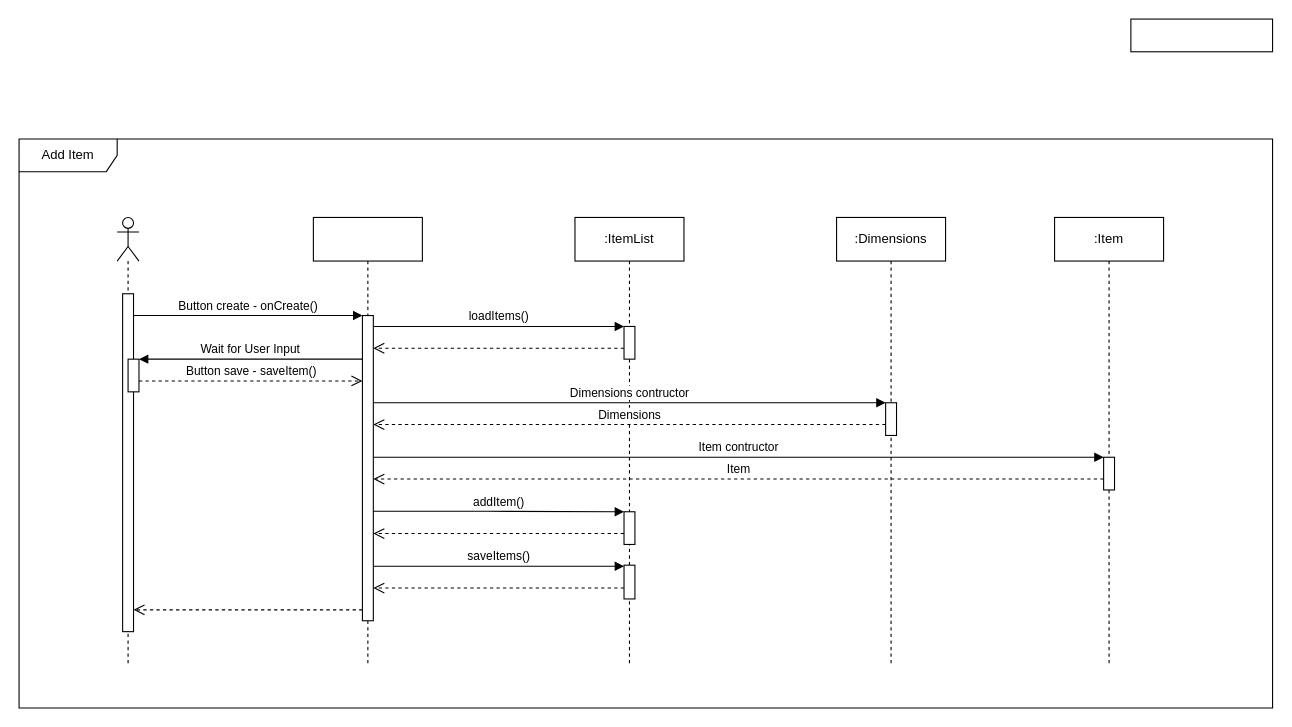
Some shapes in this 1292 by 727 pixel diagram are drawn without their labels. The box of each missing label's shape, as (x1, y1, x2, y2) in pixels:
:AddItemActivity: (312, 216, 422, 664)
Sebastian Hattinger: (1130, 18, 1273, 52)
